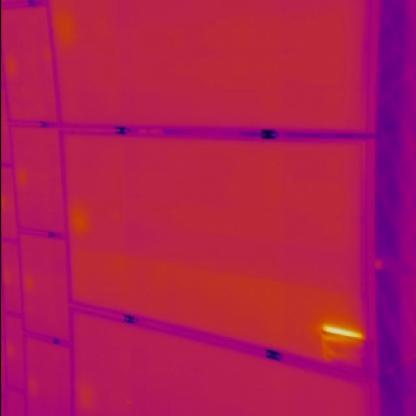anomaly: (313, 320, 367, 342)
